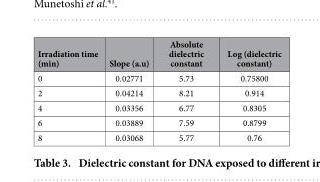table: (36, 37, 280, 143)
table column: (36, 37, 102, 143), (214, 37, 280, 143), (102, 37, 158, 143), (158, 37, 214, 143)
table column header: (36, 37, 280, 70)
table row: (36, 37, 280, 70), (36, 70, 280, 85), (36, 99, 280, 114), (36, 114, 280, 129), (36, 85, 280, 99), (36, 129, 280, 143)
